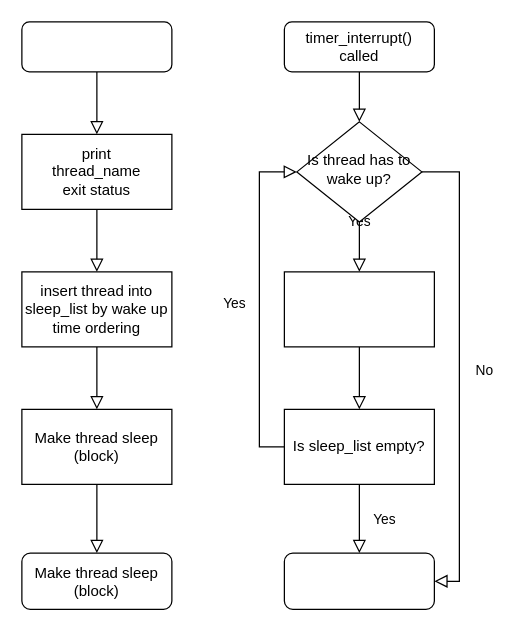
The diagram is 515 pixels wide and 631 high, and some of its shapes have lost their labels. The box of each missing label's shape, as (x1, y1, x2, y2) in pixels:
End: (283, 552, 434, 609)
exit(): (21, 21, 172, 72)
Remove from sleep_list and unblock: (283, 271, 434, 347)
